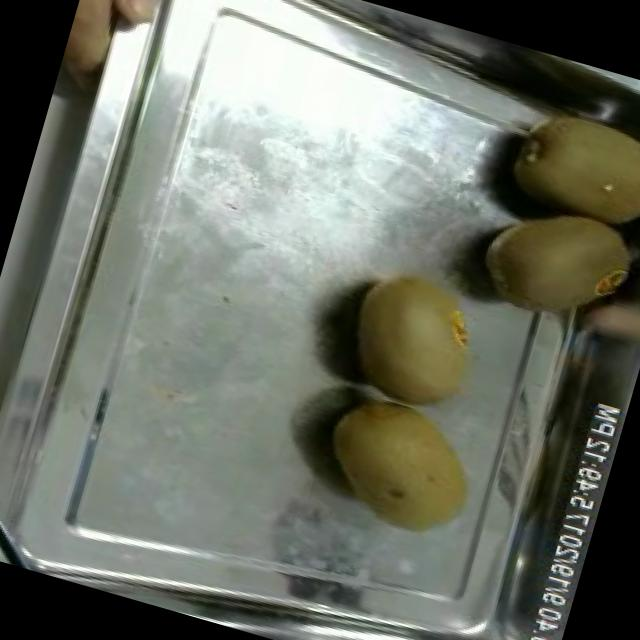Fruit: (300, 373, 503, 555), (324, 244, 508, 428), (457, 186, 640, 348), (478, 77, 640, 236), (54, 0, 192, 114)
